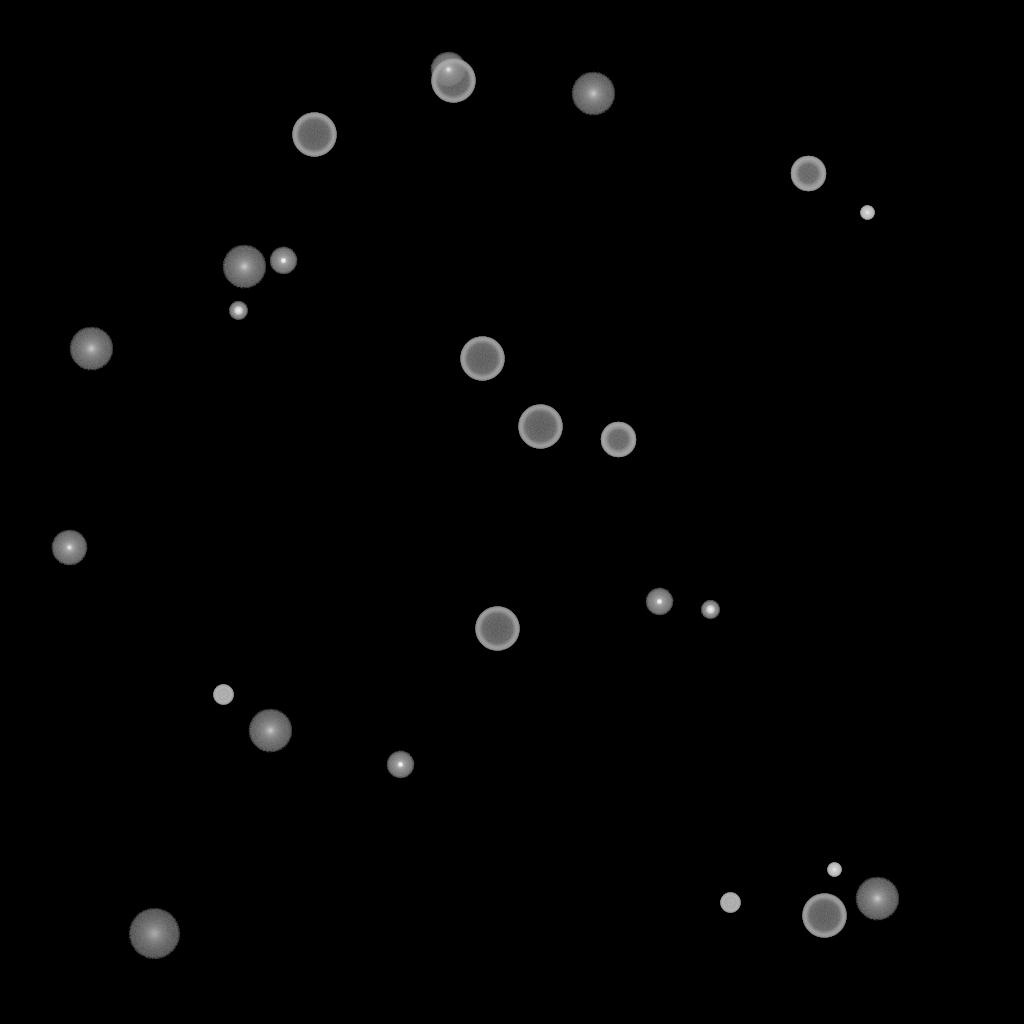depth:-10: (269, 247, 297, 275), (386, 751, 414, 779), (645, 588, 673, 616)
depth:-20: (229, 302, 247, 320), (701, 601, 719, 619)
depth:-30: (860, 206, 874, 220), (827, 863, 841, 877)
depth:-40: (213, 685, 233, 705), (720, 893, 740, 913)
depth:-60: (600, 422, 636, 458), (790, 156, 826, 192)
depth:-70: (518, 405, 562, 449), (802, 894, 846, 938), (292, 113, 336, 157), (460, 337, 504, 381), (431, 59, 475, 103), (475, 607, 519, 651)
depth:0: (430, 52, 466, 88), (51, 530, 87, 566)
depth:10: (571, 72, 615, 116), (69, 327, 113, 371), (855, 877, 899, 921), (248, 709, 292, 753), (222, 245, 266, 289)
depth:20: (128, 909, 180, 959)
